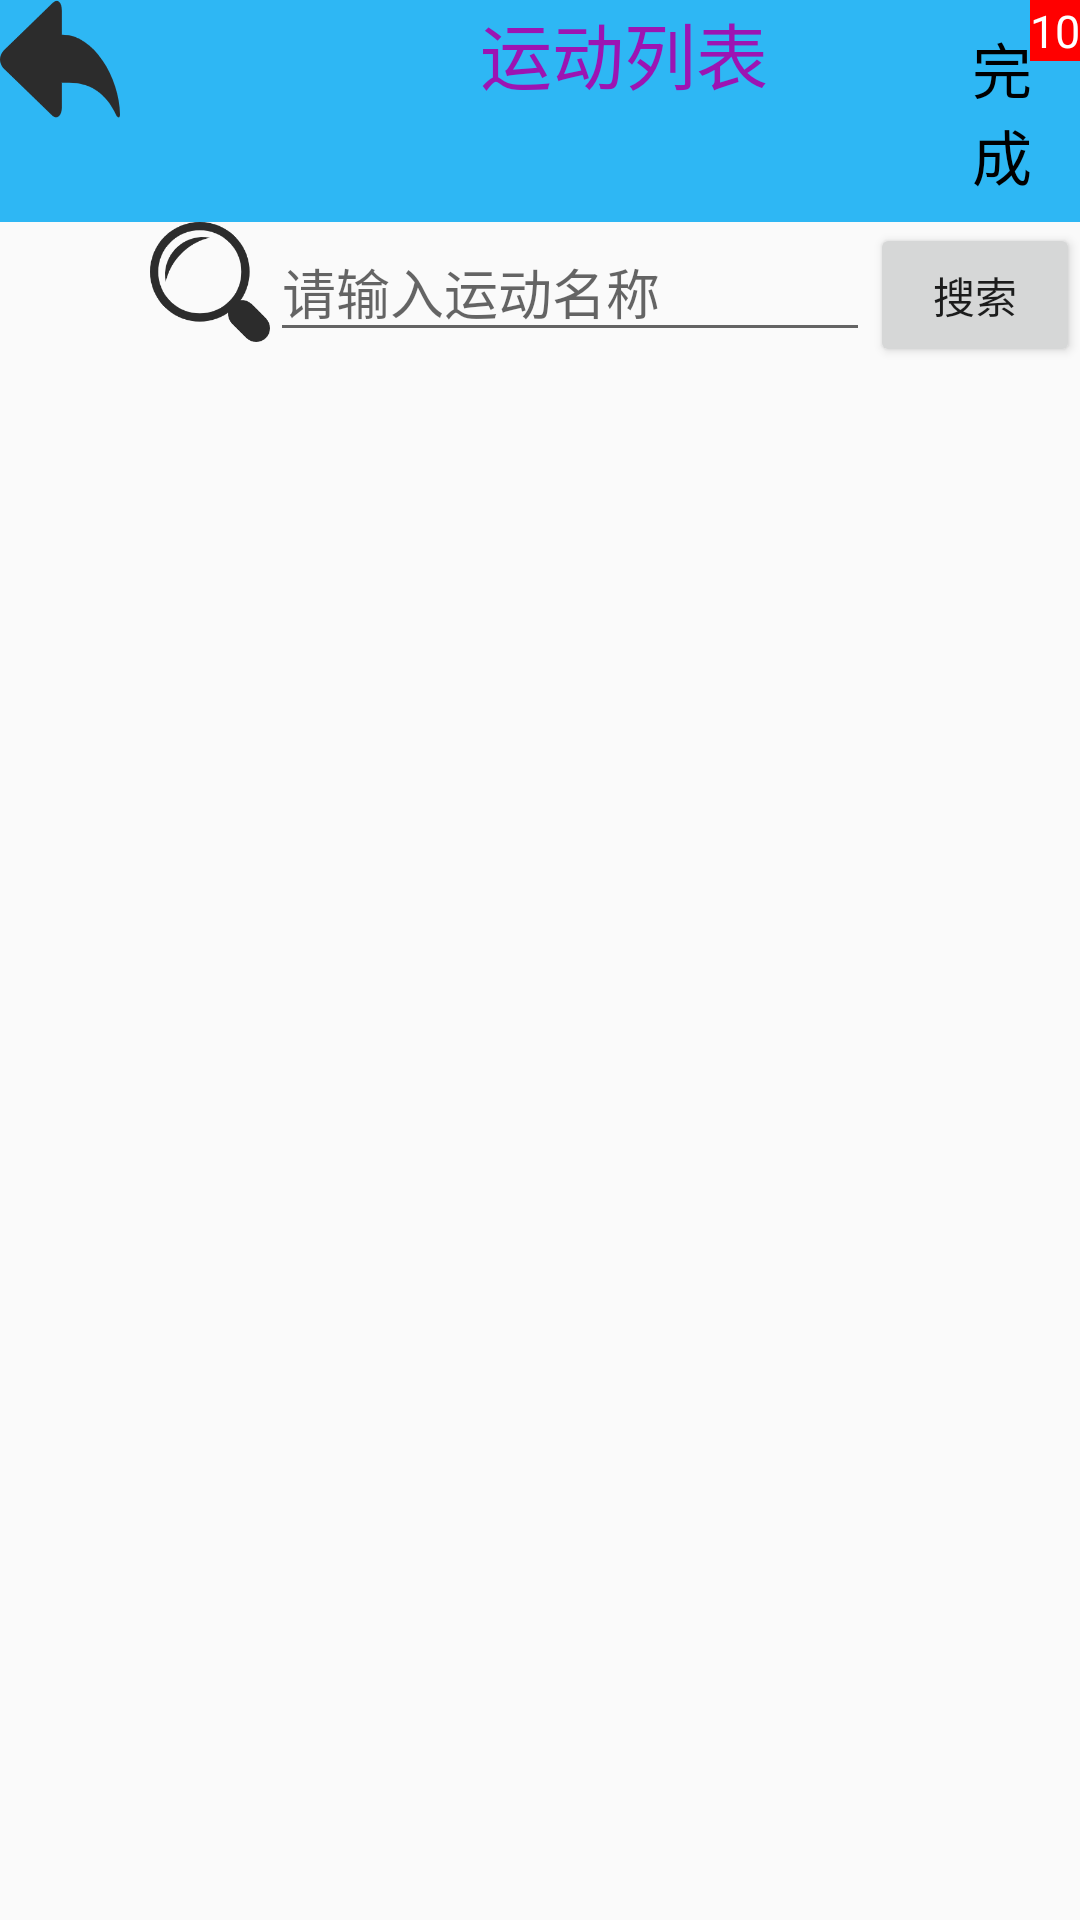

Locate icon controls on the screen. Image size 1080 × 1920, boxes as (x1, y1, x2, y2).
showfood back: (0, 1, 120, 118)
showfood search: (150, 222, 270, 342)
